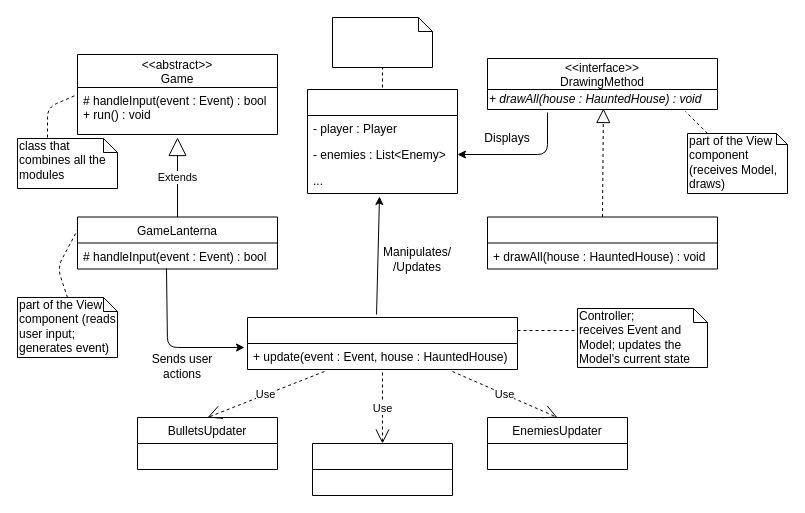
The diagram is 805 pixels wide and 513 high, and some of its shapes have lost their labels. The shapes that lost their labels are listed below. From the top down, each one's box as (x1, y1, x2, y2) in pixels, then its label:
(332, 16, 432, 68): Model; only represents the data
(306, 88, 458, 194): HauntedHouse
(486, 216, 718, 269): DrawLanterna
(246, 316, 518, 370): Updater
(312, 442, 452, 496): PlayerUpdater
